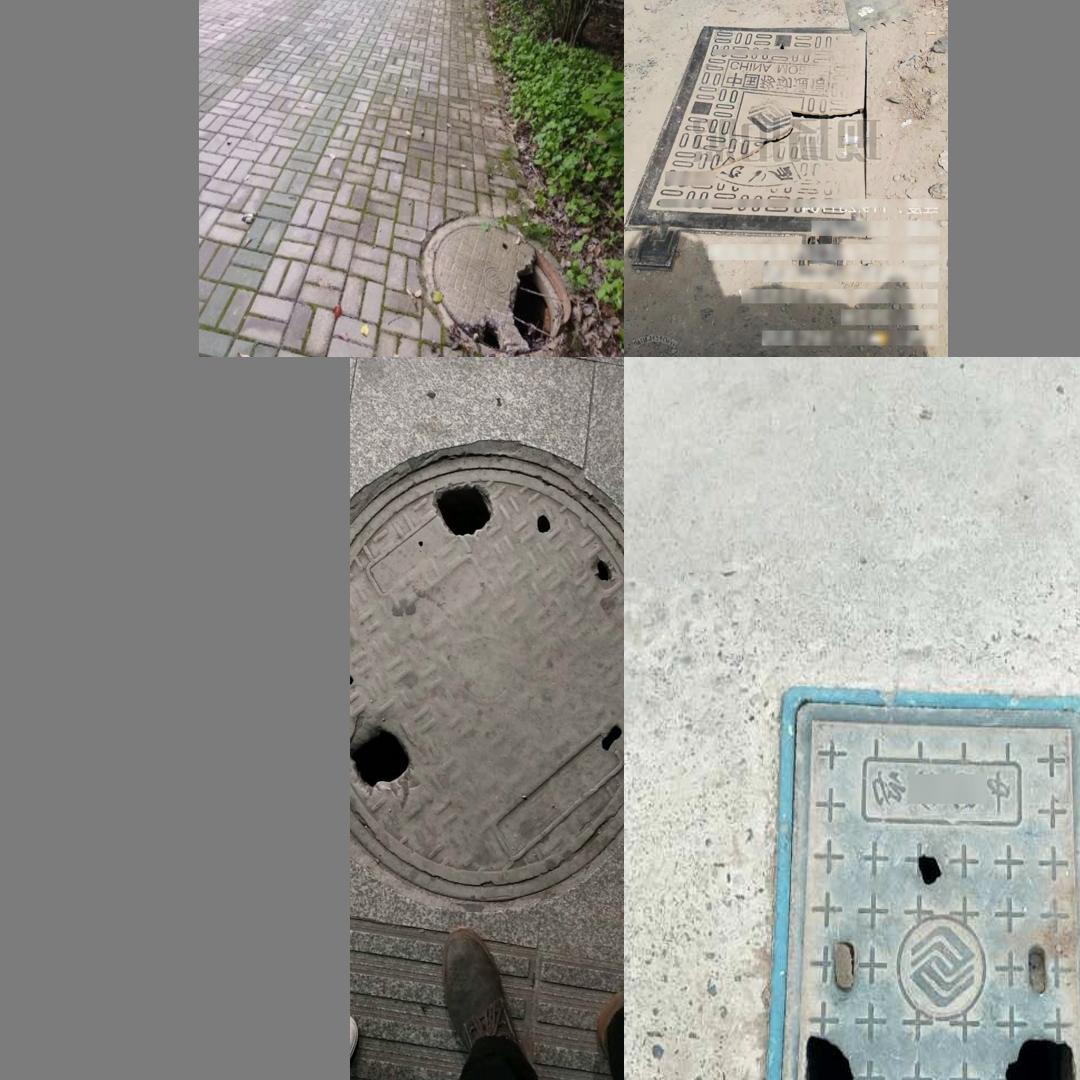broke: (759, 687, 1080, 1080), (351, 438, 623, 900), (623, 24, 872, 276), (421, 213, 572, 357)
